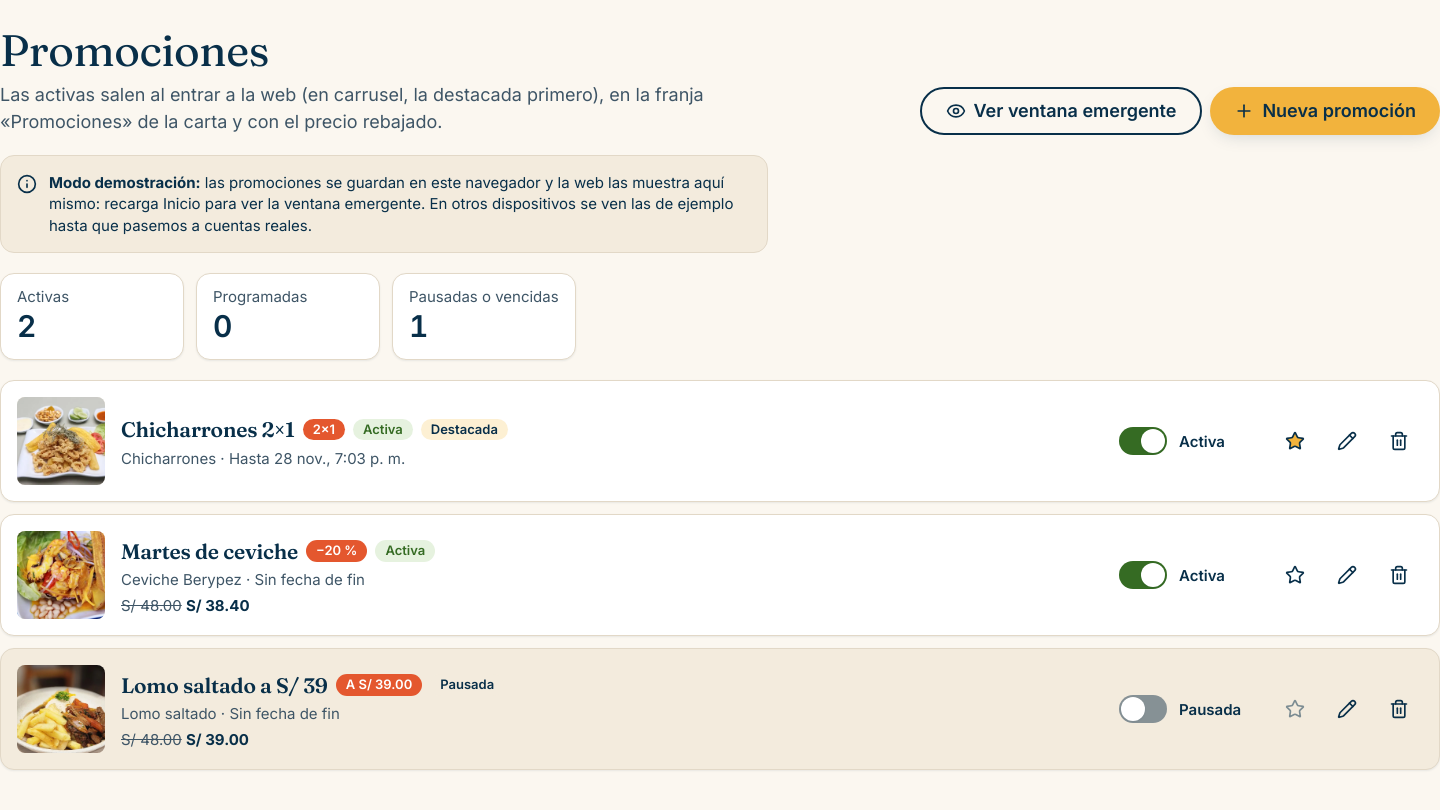
Test: Promociones (modo demostración) › un precio especial mayor al normal no se guarda
The image size is (1440, 810).
Expected: the heading "Chicharrones 2×1" is shown, x1=121 y1=413 x2=295 y2=446
Click the button "Nueva promoción" at (1325,111), box x1=1210 y1=87 x2=1439 y2=135
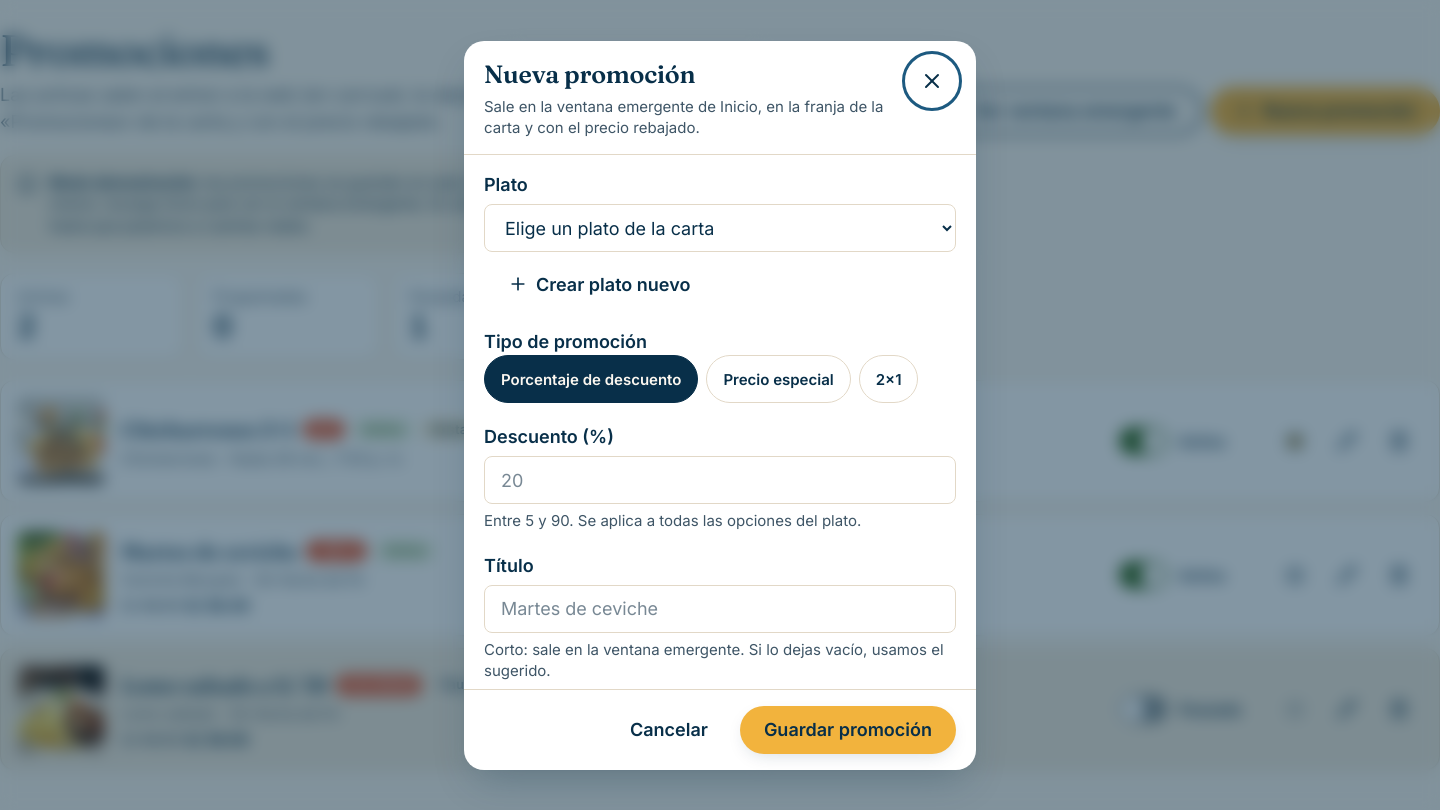
Select "Lomo saltado" in the dropdown labelled "Plato" at (720,228), box x1=484 y1=204 x2=956 y2=252
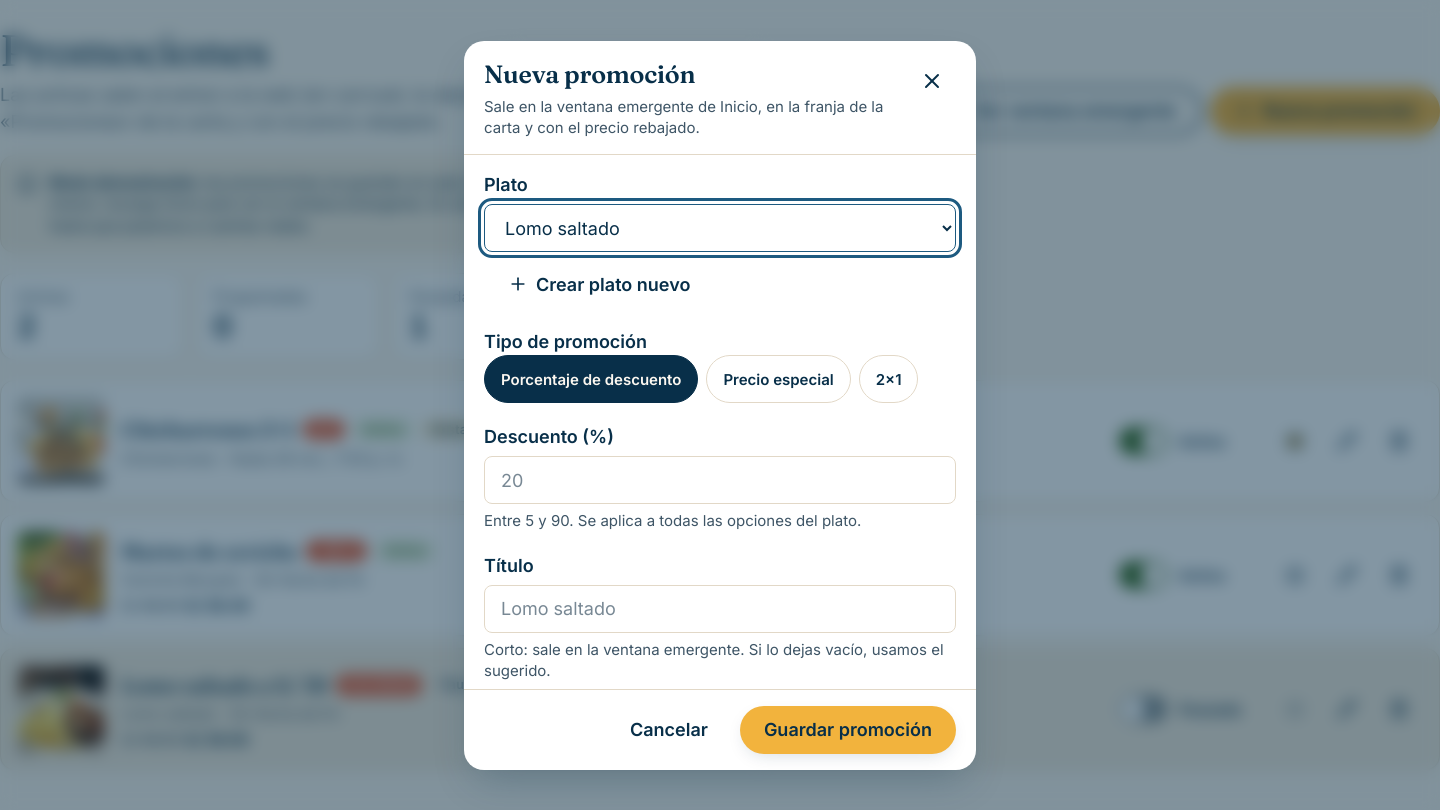
Click the radio button labelled "Precio especial" at (779,379), box x1=706 y1=355 x2=851 y2=403
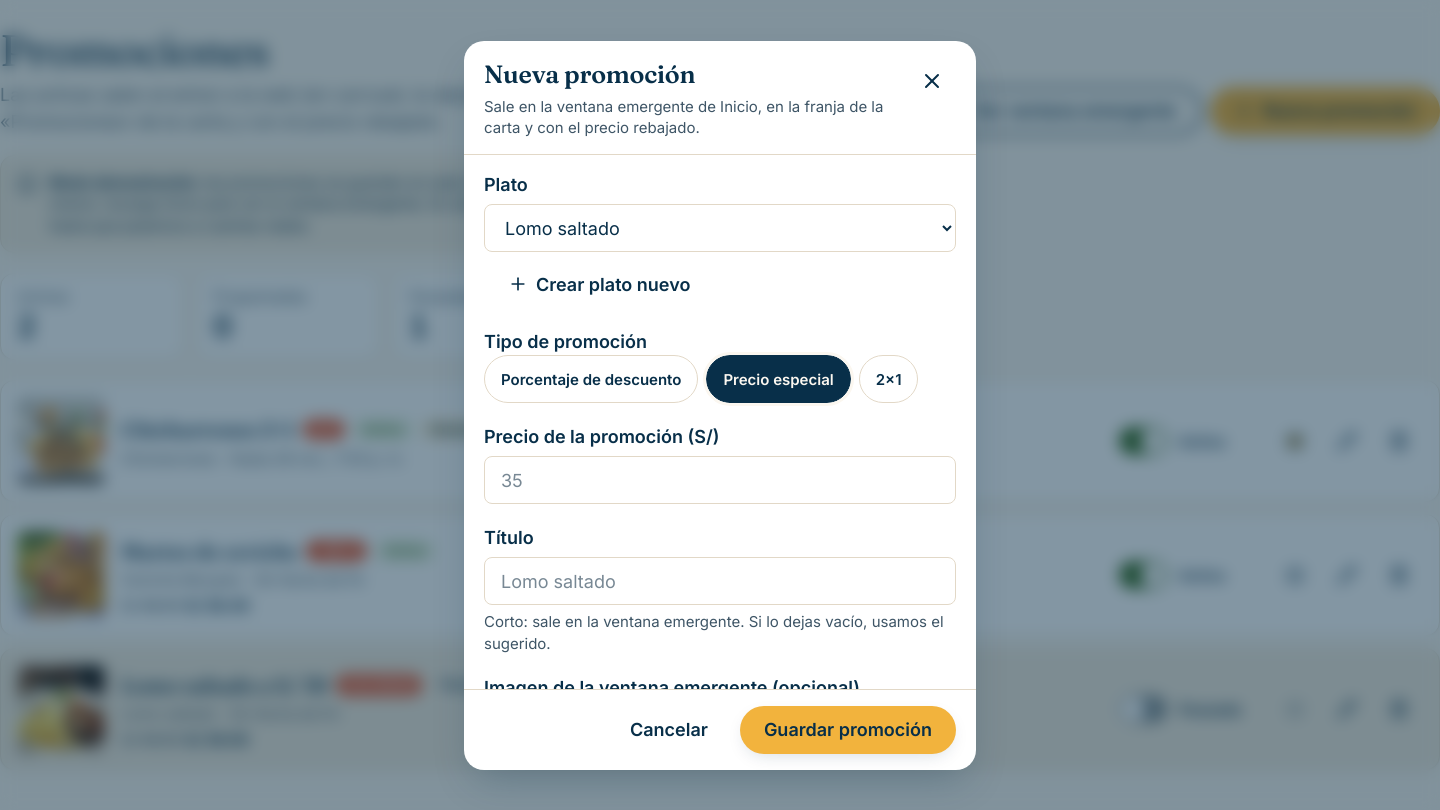
Type "60" into the field labelled "Precio de la promoción (S/)" at (720,480), box x1=484 y1=456 x2=956 y2=504
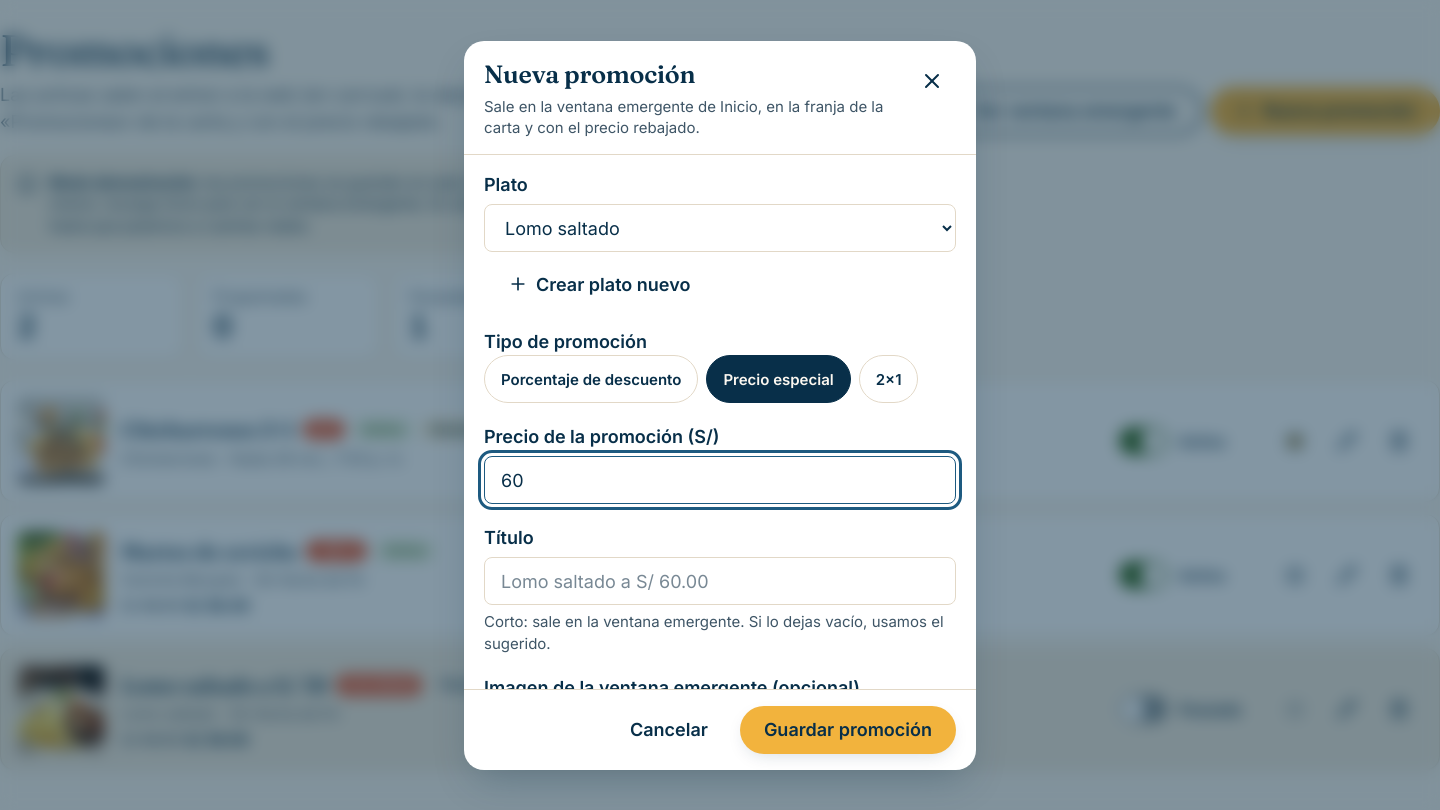
Click the button "Guardar promoción" at (848,730), box x1=740 y1=706 x2=956 y2=754
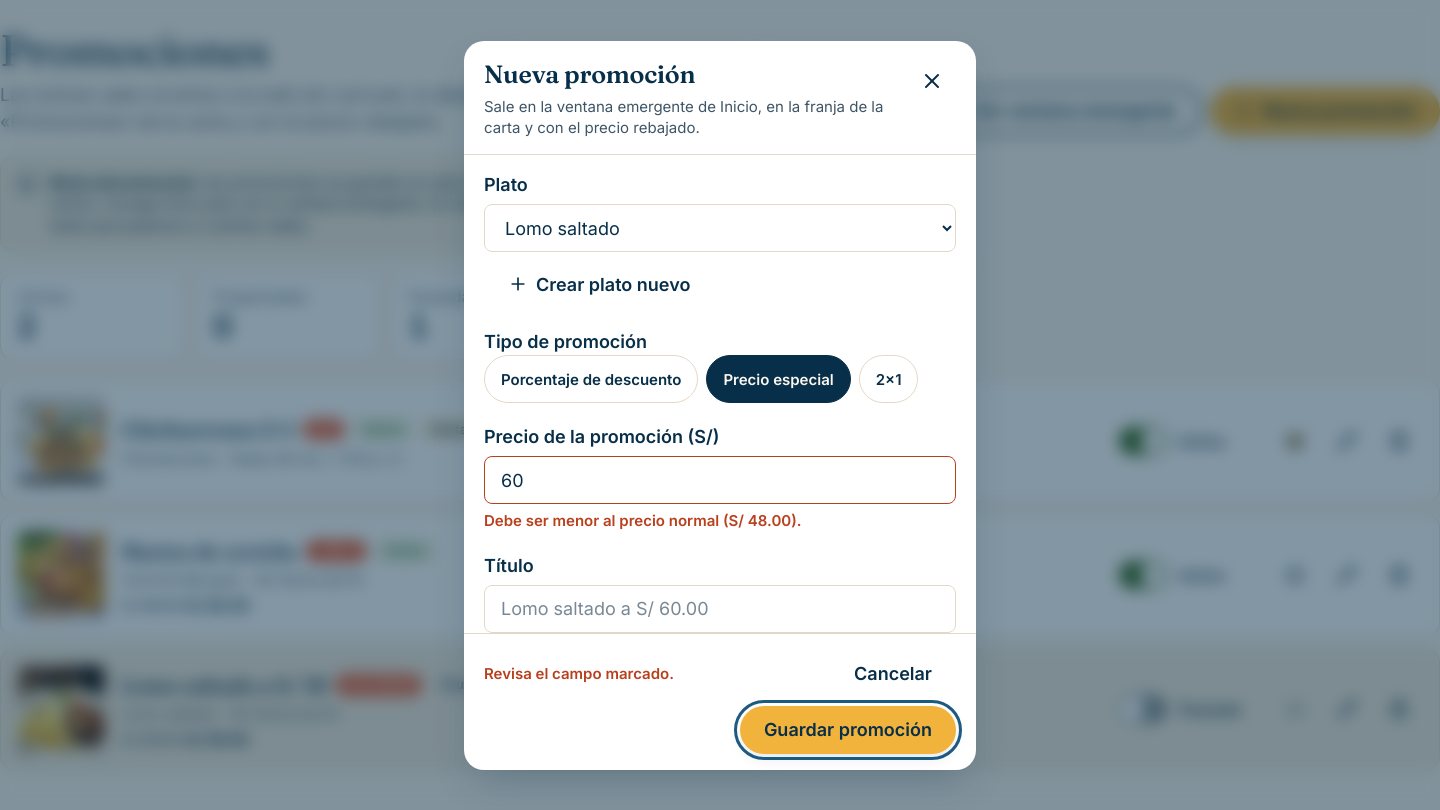
Expected: the text "Debe ser menor al precio normal (S/ 48.00)." is shown, x1=484 y1=511 x2=802 y2=530
